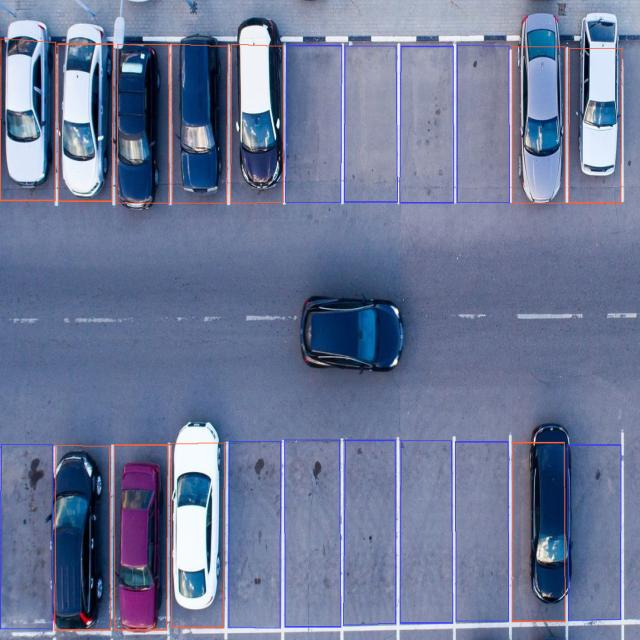space-empty: (282, 440, 343, 629), (224, 440, 284, 629), (341, 438, 400, 628), (396, 438, 454, 627), (453, 438, 510, 627), (0, 446, 56, 631), (282, 40, 344, 204), (568, 437, 622, 623), (341, 40, 400, 201), (398, 39, 456, 200), (456, 39, 512, 203), (622, 430, 639, 620), (622, 30, 640, 198)
space-occupied: (166, 440, 227, 632), (108, 444, 170, 630), (52, 446, 112, 631), (509, 436, 568, 624), (109, 39, 172, 202), (226, 36, 287, 204), (168, 40, 228, 204), (510, 37, 569, 203), (54, 37, 113, 201), (567, 31, 623, 202), (0, 29, 56, 199)
